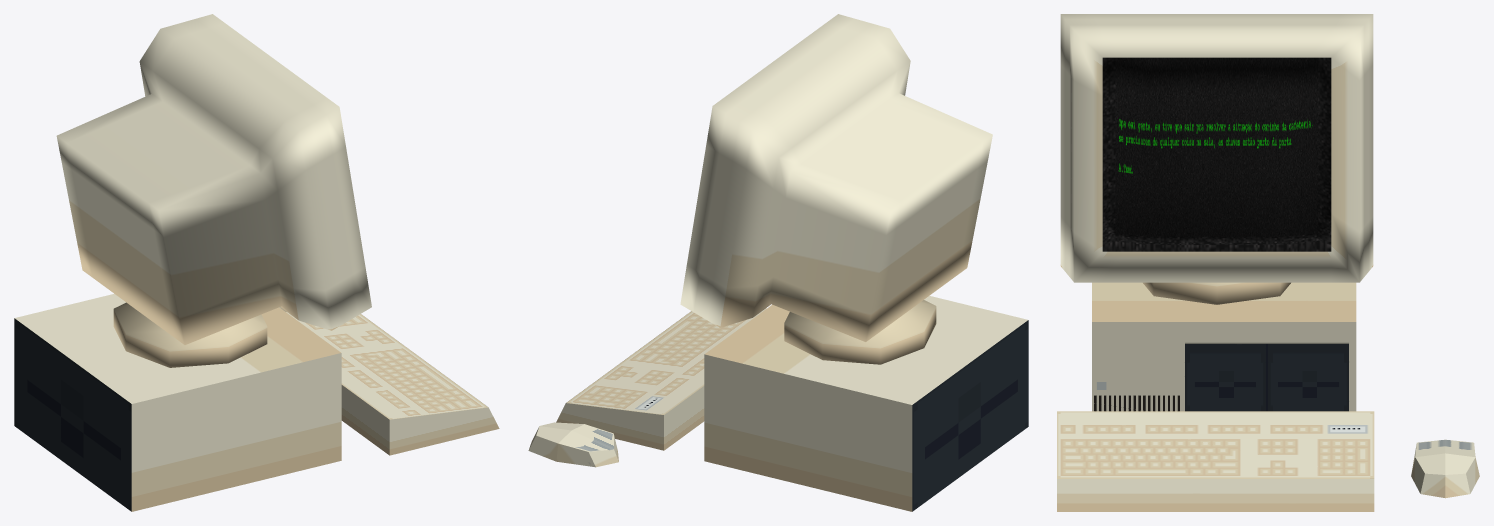
File: PC antigo comtxt2.fbx
3 renders of one model, left to right at view 1: azimuth 30°, elevation 25°; view 2: azimuth 150°, elevation 25°; view 3: azimuth 270°, elevation 25°, orthographic. The views are drawn at different scales.
Visible parts, largest first — view 1: Cube.004, Cube.002, Cube.006, Cube.003, Cube; view 2: Cube.004, Cube.002, Cube.006, Cube.003, Cube, Cube.001; view 3: Cube.005, Cube.004, Cube.002, Cube.006, Cube, Cube.001, Cube.003.
Part boxes in pixels (box(x1,y1,x2,y2)): Cube.004: box(56, 14, 371, 344); Cube.002: box(14, 293, 341, 511); Cube.006: box(286, 312, 488, 419); Cube.003: box(113, 302, 267, 367); Cube: box(341, 316, 499, 455); Cube.004: box(680, 14, 992, 341); Cube.002: box(704, 296, 1028, 511); Cube.006: box(566, 308, 766, 414); Cube.003: box(784, 300, 936, 364); Cube: box(556, 314, 704, 450); Cube.001: box(528, 422, 618, 467); Cube.005: box(1102, 57, 1331, 251); Cube.004: box(1060, 14, 1373, 282); Cube.002: box(1092, 282, 1356, 411); Cube.006: box(1057, 411, 1374, 478); Cube: box(1057, 479, 1374, 511); Cube.001: box(1411, 439, 1479, 498); Cube.003: box(1143, 282, 1290, 304).
Bounding box in the file's own units: 2051 × 2015 × 1895.
4 materials, 4 textured.
